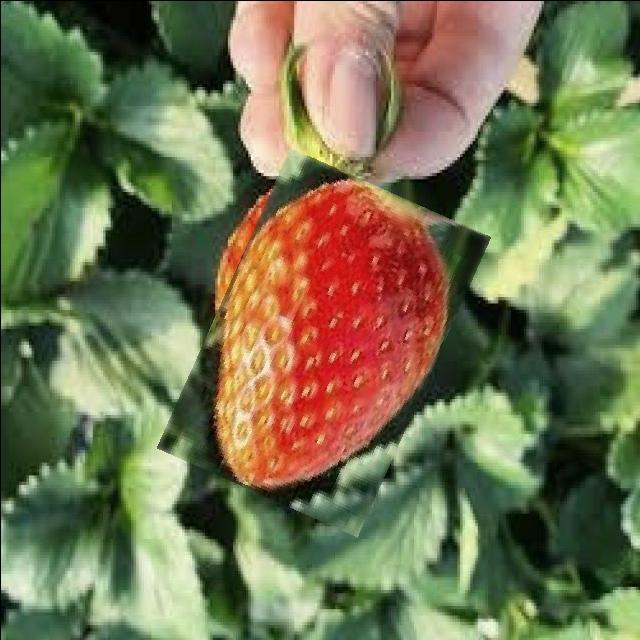strawberry: (184, 162, 462, 522)
